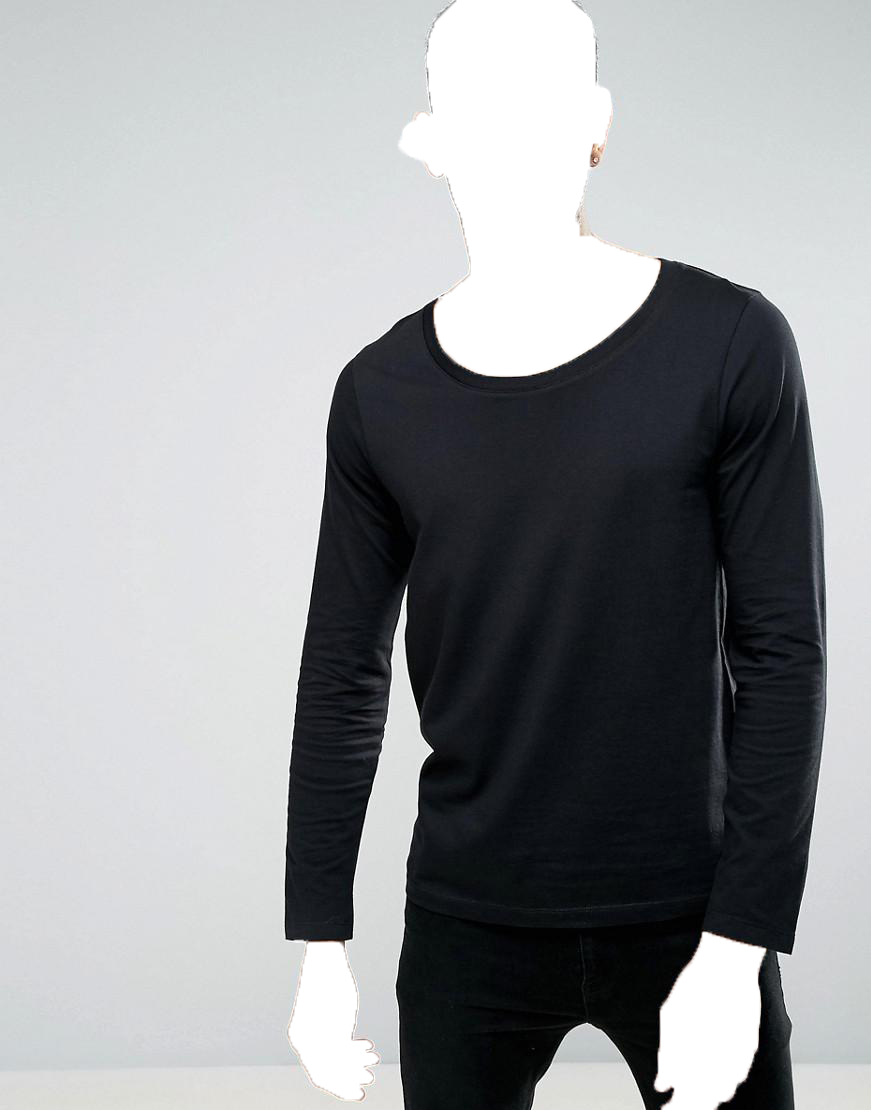teeshirt: (268, 259, 825, 962)
